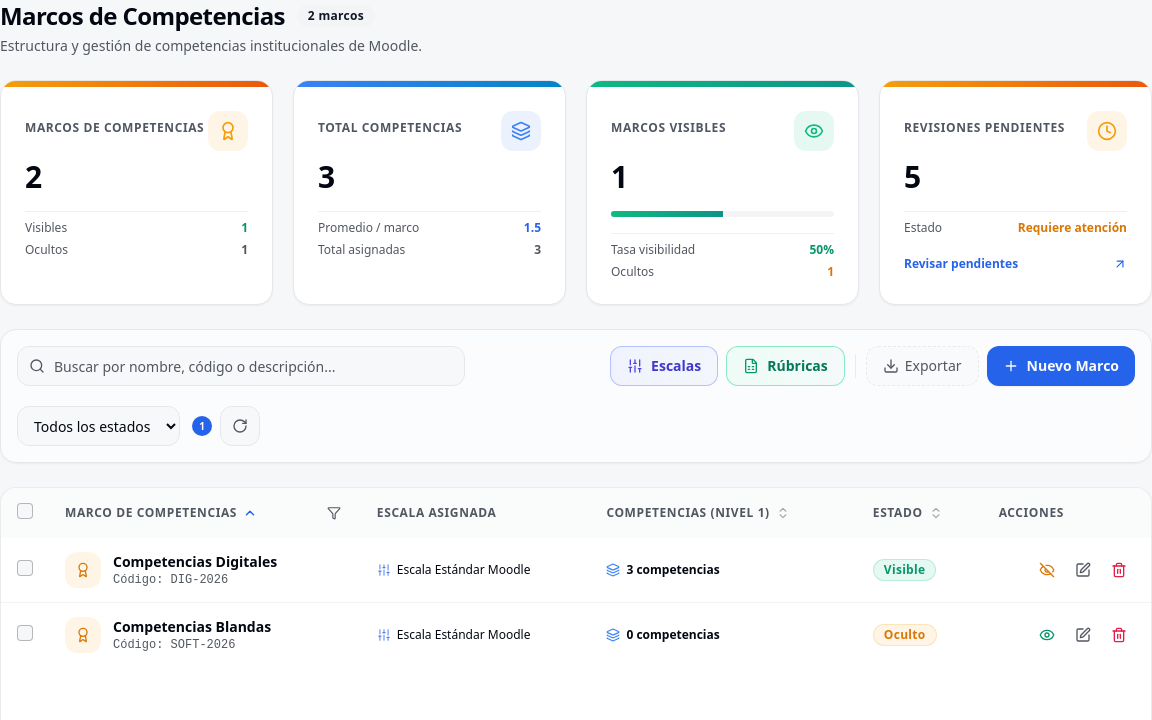
Test: CompetenciesView › opens create modal with default scale preselected
This screenshot has width=1152, height=720.
Expected: the text "Nuevo Marco" is shown, x1=1026 y1=356 x2=1119 y2=376
What coordinates should you click on to do the following:
click the button "Nuevo Marco"
I would click on:
 (1061, 366)
Its box is x1=986 y1=346 x2=1135 y2=386.
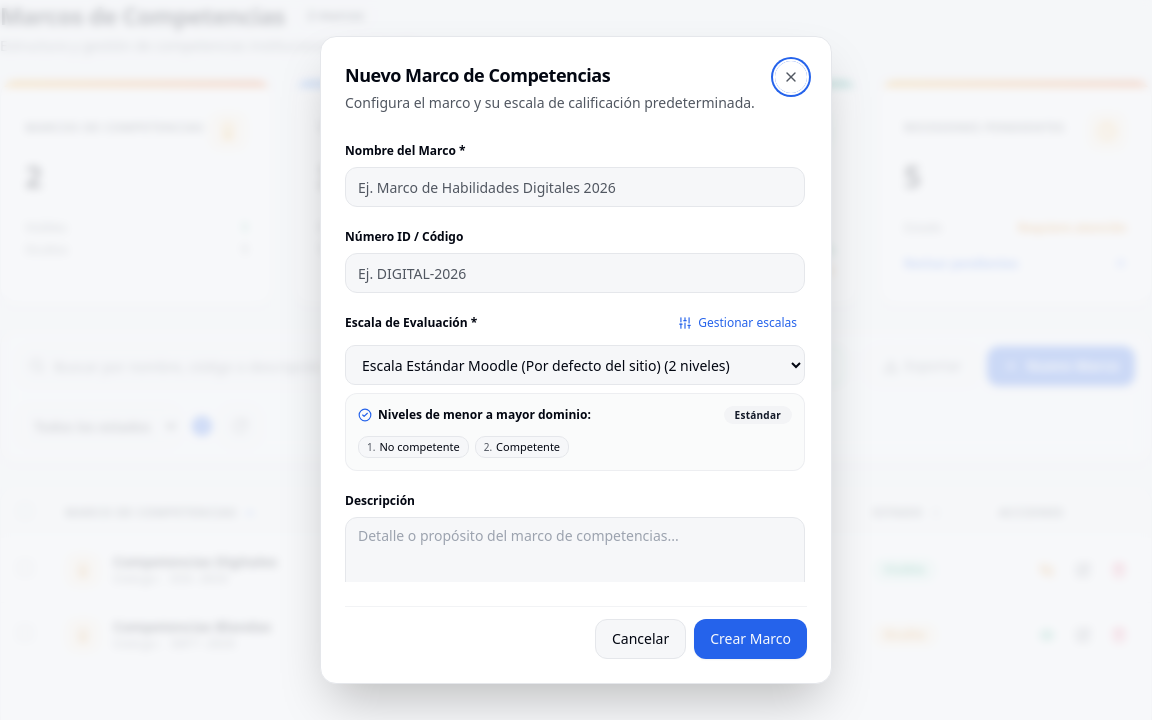
Expected: the text "Configura el marco y su escala de calificación predeterminada." is shown, x1=345 y1=93 x2=755 y2=113
Expected: the field with placeholder "Ej. Marco de Habilidades Digitales 2026" is shown, x1=345 y1=167 x2=805 y2=207
